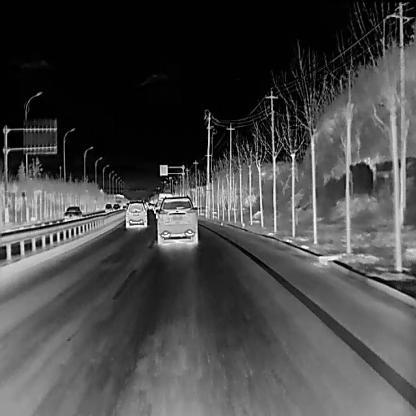car: (154, 194, 198, 245), (124, 199, 147, 228), (64, 205, 82, 226), (103, 203, 111, 214), (111, 203, 120, 212)
